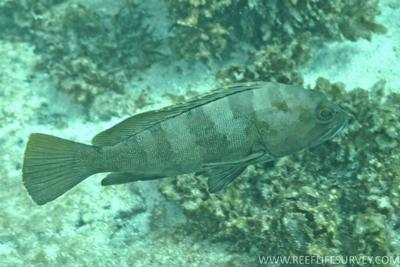Serranidae -Groupers-: (19, 76, 349, 208)
